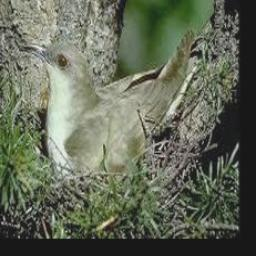Cuckoo: (18, 28, 193, 179)
